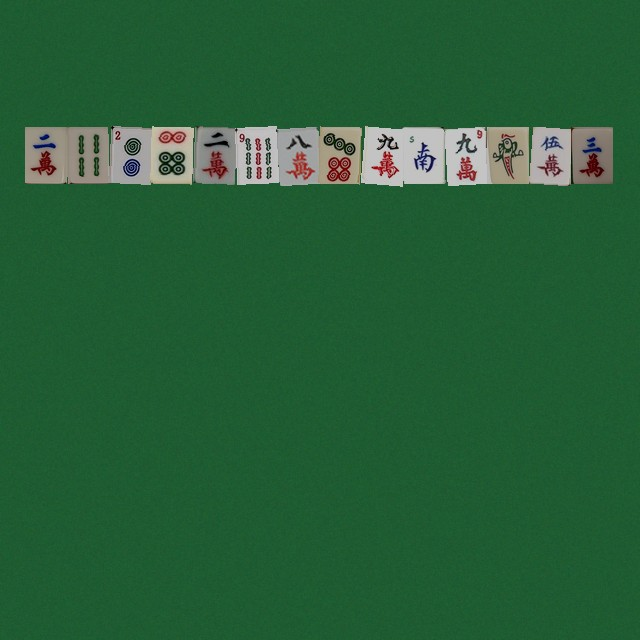tile: (24, 126, 66, 183), (66, 126, 108, 183), (108, 126, 150, 183), (150, 126, 192, 183), (192, 126, 234, 183), (234, 126, 276, 183), (276, 126, 318, 183), (318, 126, 360, 183), (360, 126, 402, 183), (402, 126, 444, 183), (444, 126, 486, 183), (486, 126, 528, 183), (528, 126, 570, 183), (570, 126, 612, 183)
